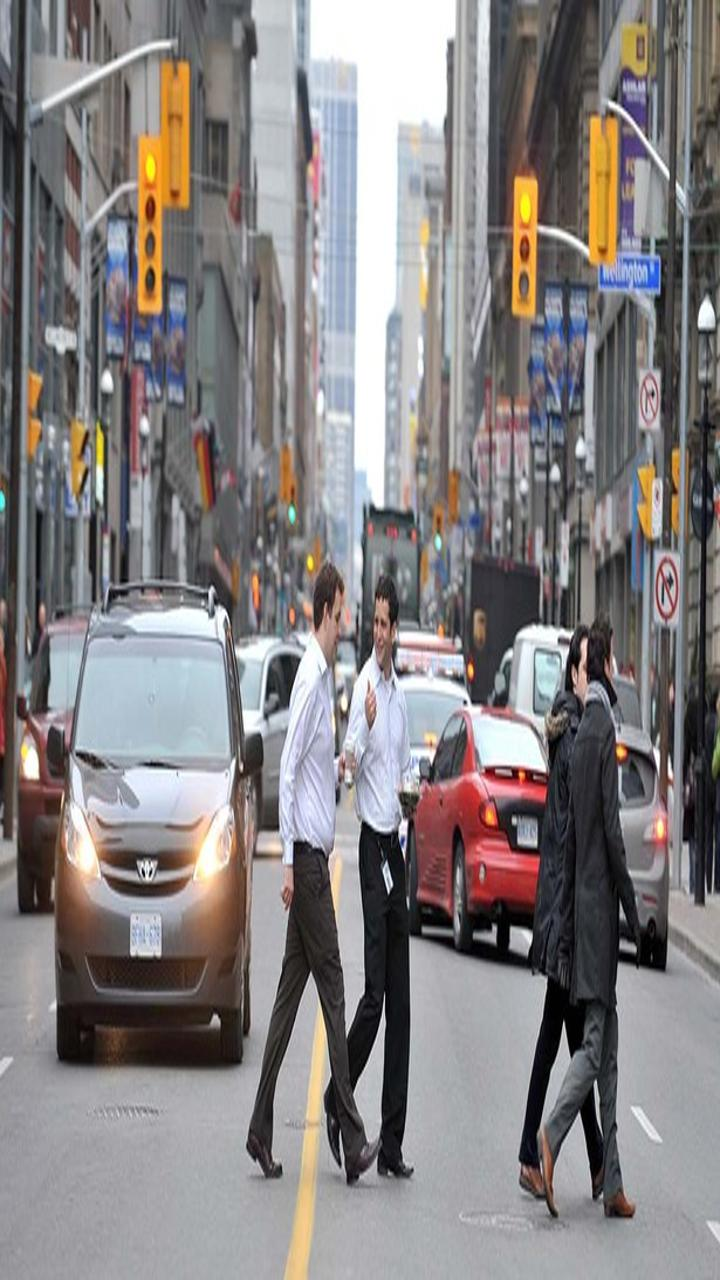Traffic sign: (122, 116, 174, 324), (160, 43, 212, 251), (498, 144, 550, 352), (581, 101, 633, 309), (640, 529, 690, 639)
pedestrian: (245, 524, 374, 1201), (303, 537, 432, 1214), (524, 559, 653, 1236)
vehicle: (54, 563, 262, 1072), (415, 658, 547, 989), (12, 560, 88, 924)
